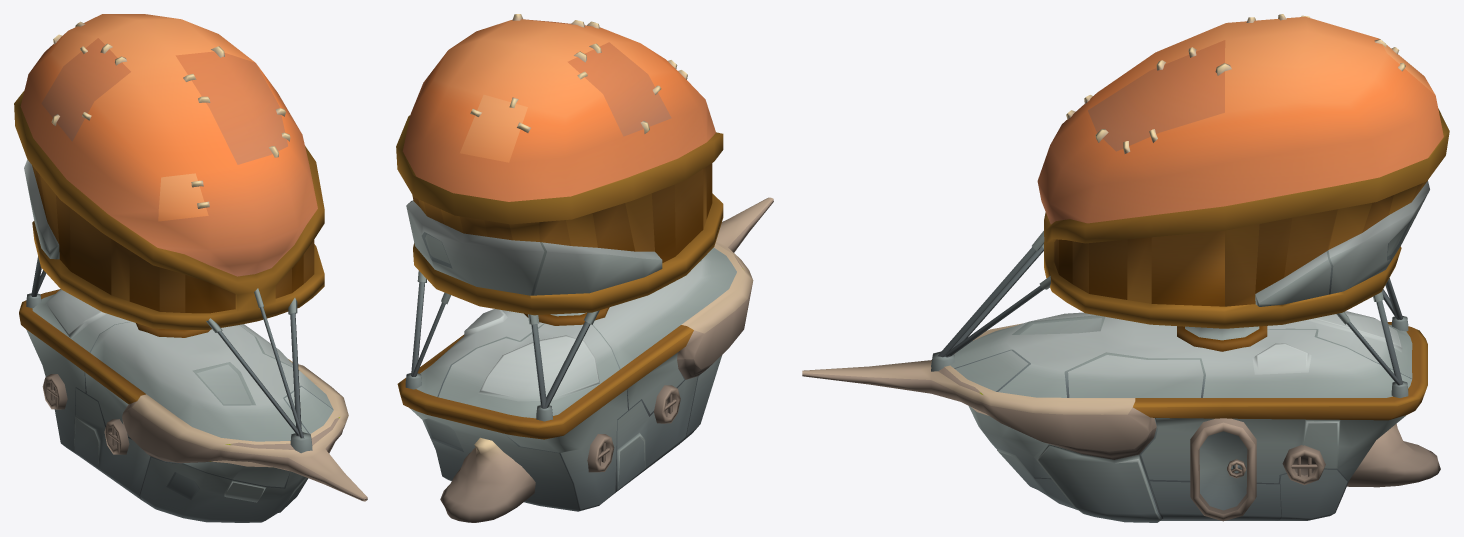
File: airshipBody.fbx
The picture shows the model from 3 angles, left to right: view 1: azimuth 30°, elevation 25°; view 2: azimuth 150°, elevation 25°; view 3: azimuth 270°, elevation 25°; orthographic projection. The views are drawn at different scales.
Parts seen in each view (by area): view 1: airshipBody; view 2: airshipBody; view 3: airshipBody.
Boxes of the visible parts, bbox=[...] form: airshipBody: bbox=[14, 14, 367, 522]; airshipBody: bbox=[396, 14, 773, 522]; airshipBody: bbox=[802, 14, 1449, 522].
Size of the model in its own units: 628 by 1089 by 1392.
